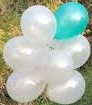Balloon: (3, 36, 50, 72), (52, 35, 92, 73), (21, 6, 56, 46), (46, 70, 85, 105), (6, 68, 44, 102), (55, 2, 88, 39)
